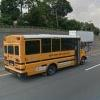Bus: (1, 27, 96, 80)
